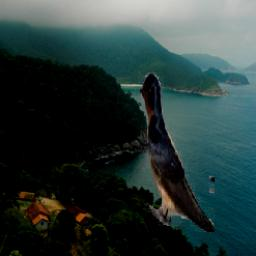Swallow: (138, 74, 215, 234)
